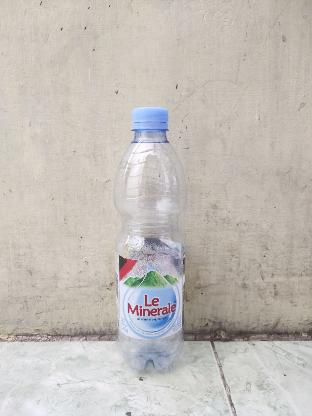Plastic Bottle: (113, 106, 187, 372)
